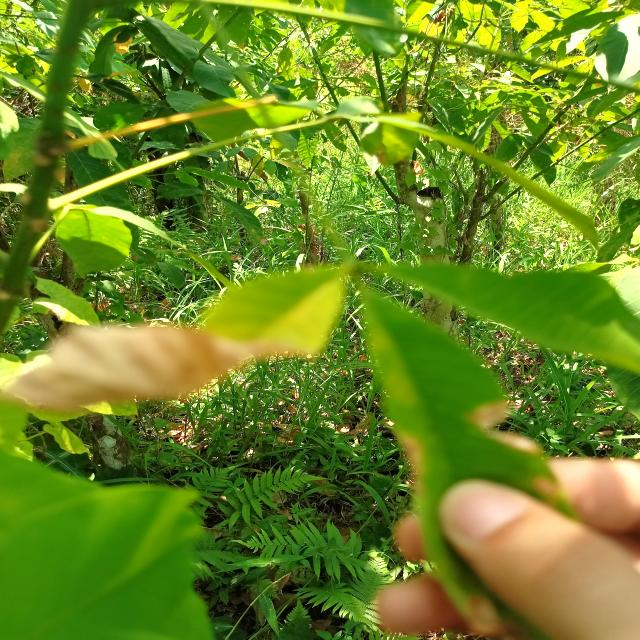Leaf-Blight: (0, 324, 307, 410)
